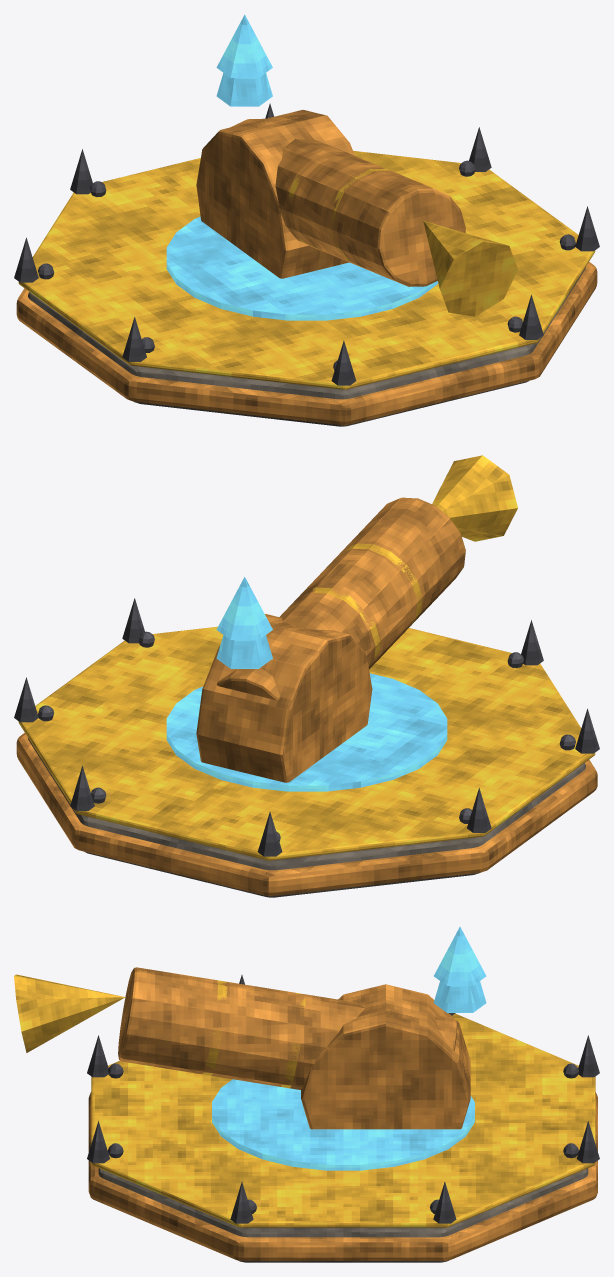
Rendered from weapon_arcane.gltf.
3 renders of one model, top to bottom at view 1: azimuth 30°, elevation 25°; view 2: azimuth 150°, elevation 25°; view 3: azimuth 270°, elevation 25°, orthographic. The views are drawn at different scales.
Parts seen in each view (by area): view 1: Tier4_gold, Crown_brass, Tier4_rune, Crown_gold, Crown_stone, Tier3_iron, Crown_rune, Tier2_iron; view 2: Tier4_gold, Crown_brass, Tier4_rune, Crown_gold, Crown_stone, Tier3_iron, Crown_rune, Tier2_iron; view 3: Crown_brass, Tier4_gold, Tier4_rune, Crown_gold, Crown_stone, Tier3_iron, Crown_rune, Tier2_iron.
Boxes of the visible parts, x1,y1,x2,y2 form: Tier4_gold: (18,150,595,389); Crown_brass: (16,110,597,425); Tier4_rune: (166,216,438,320); Crown_gold: (288,168,517,316); Crown_stone: (28,267,585,426); Tier3_iron: (14,103,599,385); Crown_rune: (216,14,272,106); Tier2_iron: (38,160,575,370); Tier4_gold: (18,626,595,860); Crown_brass: (16,497,597,896); Tier4_rune: (166,673,447,791); Crown_gold: (312,455,517,657); Crown_stone: (28,738,585,897); Tier3_iron: (14,598,599,856); Crown_rune: (216,577,272,668); Tier2_iron: (38,631,575,841); Crown_brass: (88,967,597,1260); Tier4_gold: (91,1013,595,1227); Tier4_rune: (212,1079,474,1170); Crown_gold: (14,974,305,1088); Crown_stone: (98,1168,588,1262); Tier3_iron: (87,975,599,1223); Crown_rune: (433,926,486,1012); Tier2_iron: (107,1063,578,1213).
Bounding box in the file's own units: 0.962 × 0.49 × 1.11.
Materials: 5 (5 with a texture image).
